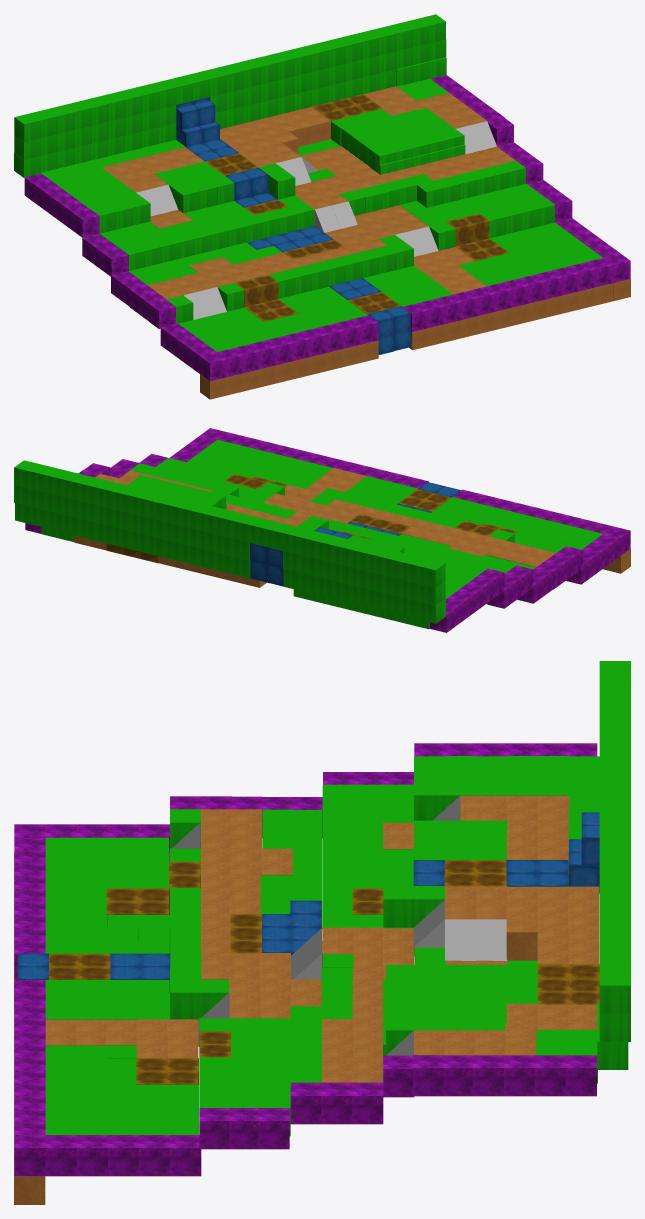
File: map15_1.fbx
3 renders of one model, top to bottom at view 1: azimuth 30°, elevation 25°; view 2: azimuth 150°, elevation 25°; view 3: azimuth 270°, elevation 25°, orthographic. The views are drawn at different scales.
Visible parts, largest first — view 1: pasted__pasted__pasted__pCube1, pasted__pCube80; view 2: pasted__pasted__pasted__pCube1, pasted__pCube80; view 3: pasted__pasted__pasted__pCube1, pasted__pCube80.
Boxes of the visible parts, x1,y1,x2,y2 form: pasted__pasted__pasted__pCube1: [14, 14, 630, 399]; pasted__pCube80: [176, 101, 411, 354]; pasted__pasted__pasted__pCube1: [14, 428, 630, 632]; pasted__pCube80: [250, 482, 460, 586]; pasted__pasted__pasted__pCube1: [14, 661, 630, 1204]; pasted__pCube80: [17, 812, 599, 992].
Size of the model in its own units: 2468 by 776 by 1974.
